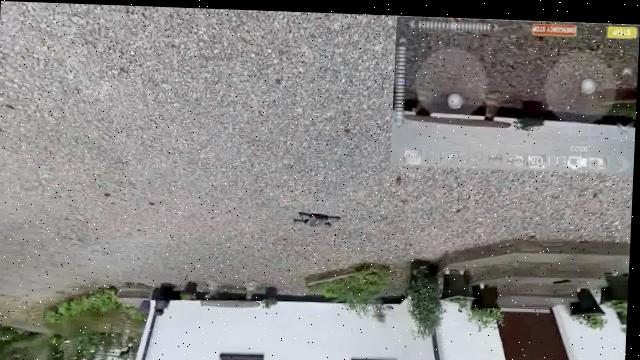drone: (285, 197, 356, 239)
